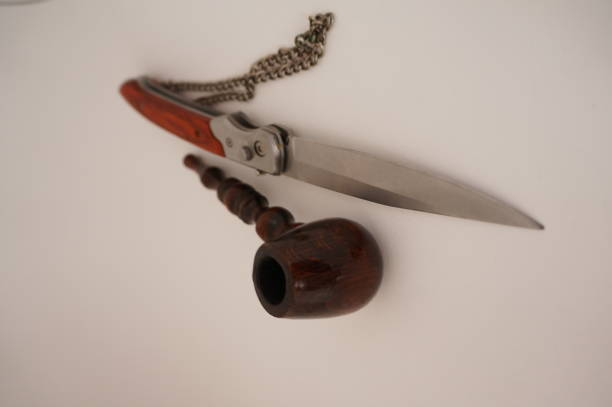knife: (116, 73, 547, 232)
